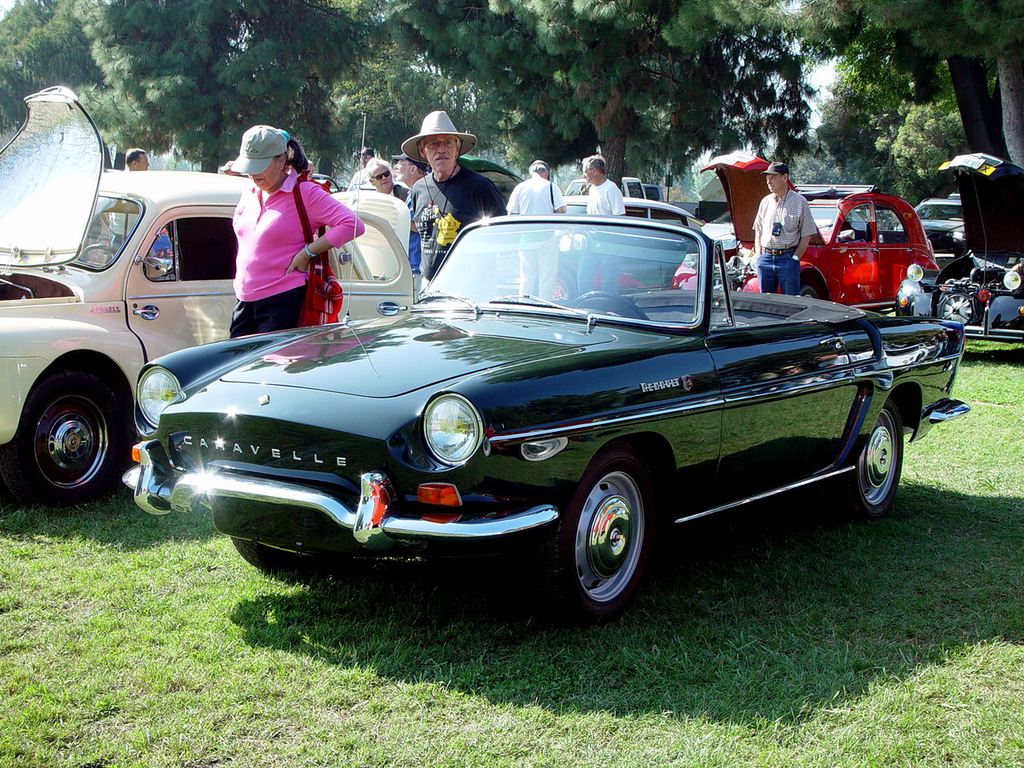Car: (0, 83, 1023, 507)
